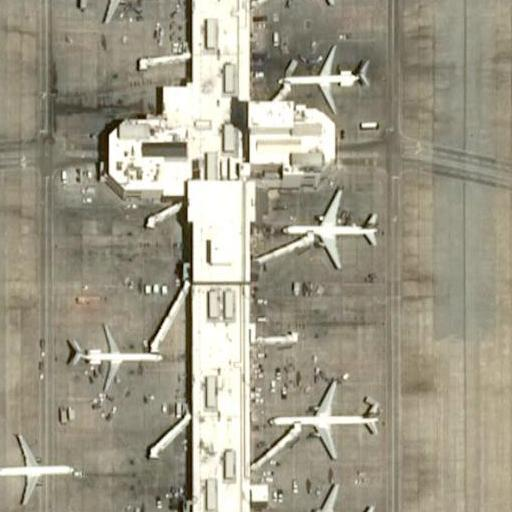Aircraft: (270, 374, 380, 461), (279, 183, 377, 268), (61, 320, 162, 397), (273, 39, 371, 114), (0, 429, 77, 504), (276, 473, 377, 512), (61, 0, 157, 30), (273, 0, 373, 5), (0, 0, 2, 64)
